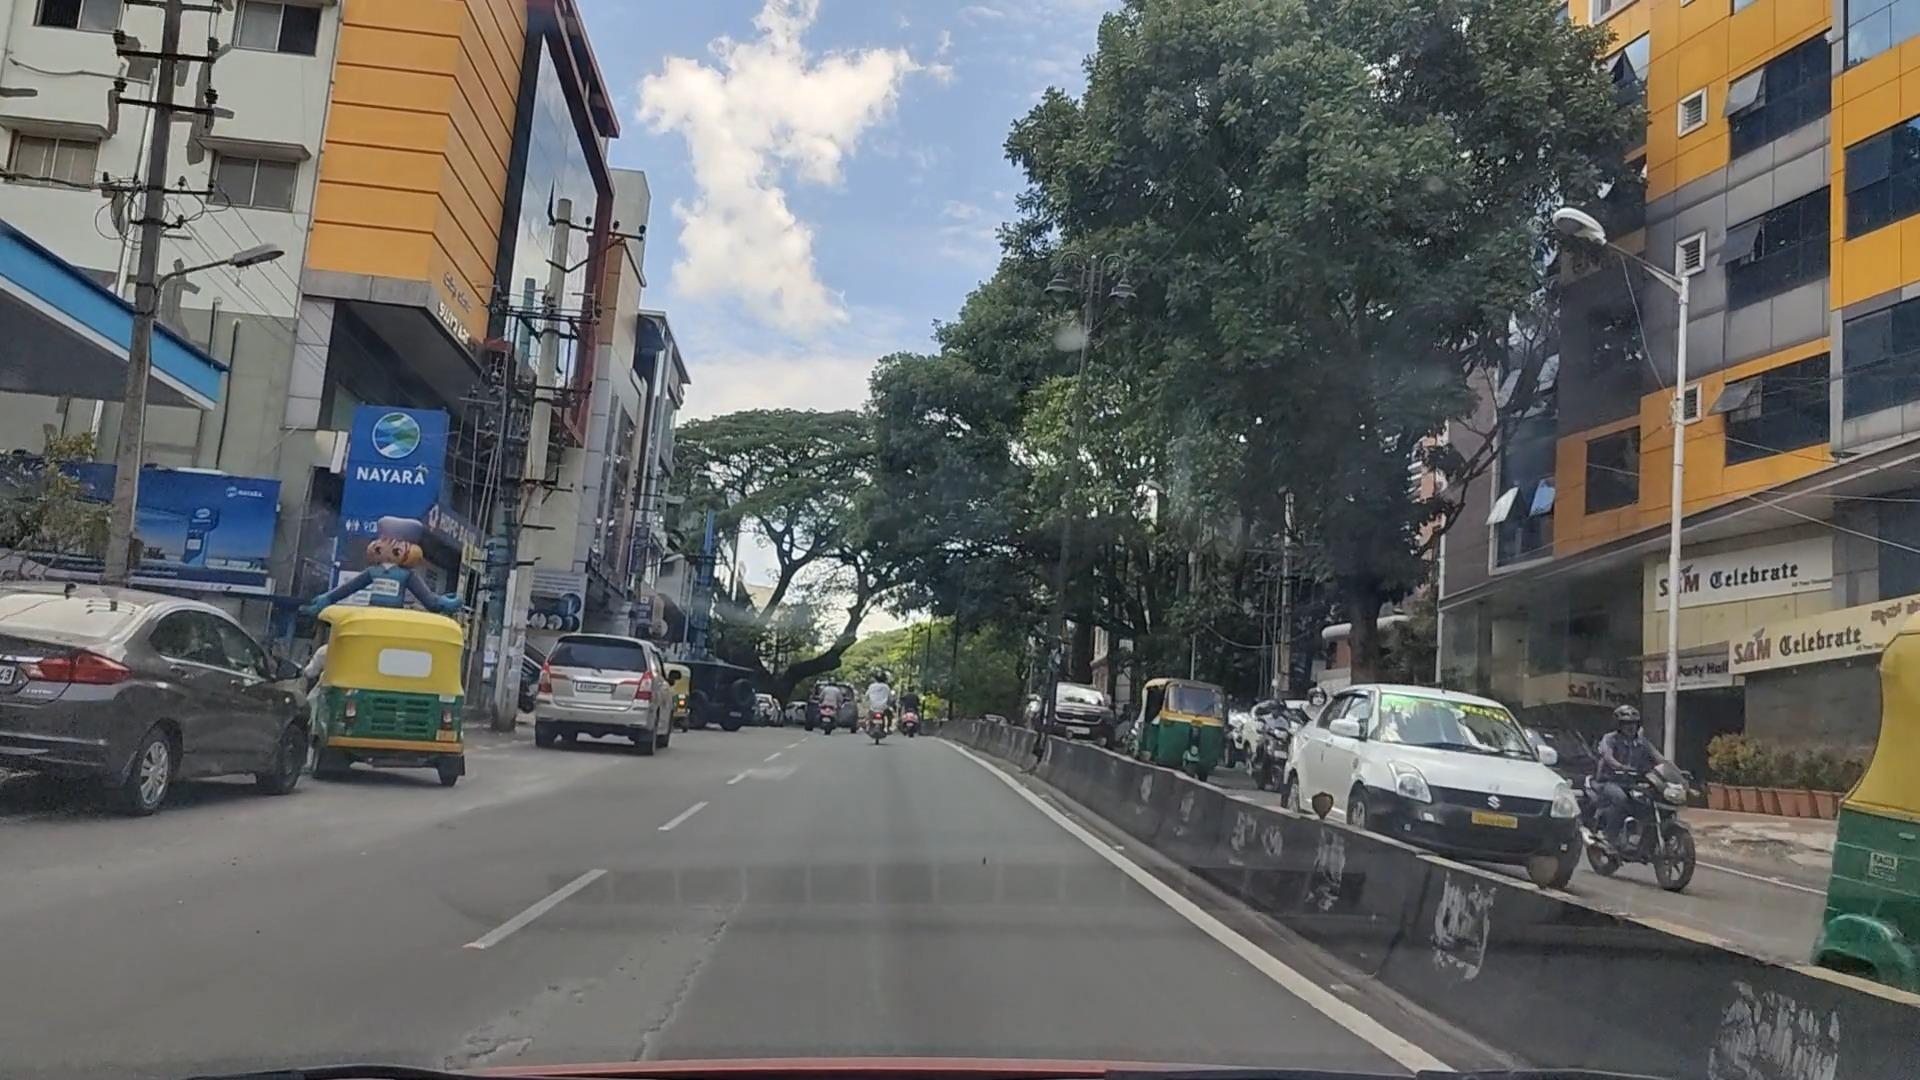LMV: (28, 588, 339, 802), (276, 622, 485, 787)
RoadDamages: (476, 872, 749, 1067)
